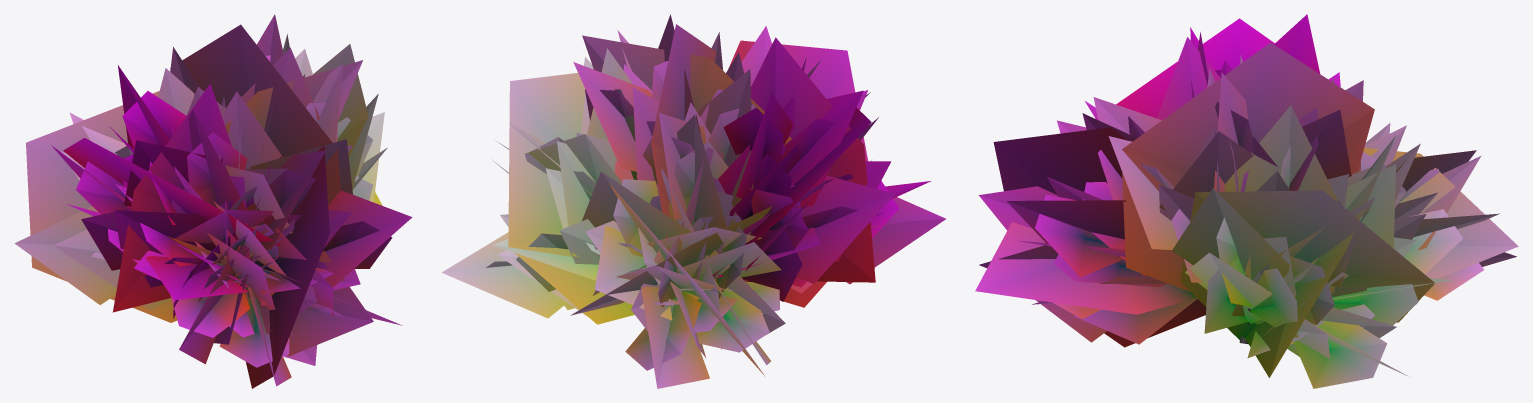
File: filber_tree_8.FBX
The picture shows the model from 3 angles, left to right: view 1: azimuth 30°, elevation 25°; view 2: azimuth 150°, elevation 25°; view 3: azimuth 270°, elevation 25°; orthographic projection. The views are drawn at different scales.
Visible parts, largest first — view 1: filbert_leaves_lod_0, filbert_leaves_shadow; view 2: filbert_leaves_lod_0, filbert_leaves_shadow; view 3: filbert_leaves_lod_0, filbert_leaves_shadow.
Part boxes in pixels (x1,y1,x2,y2): filbert_leaves_lod_0: [14, 14, 412, 386]; filbert_leaves_shadow: [26, 24, 402, 388]; filbert_leaves_lod_0: [442, 14, 945, 388]; filbert_leaves_shadow: [508, 24, 875, 376]; filbert_leaves_lod_0: [979, 14, 1516, 388]; filbert_leaves_shadow: [975, 18, 1518, 377].
Size of what is drawn, in the model's own units: 4.1 by 3.47 by 5.11.
